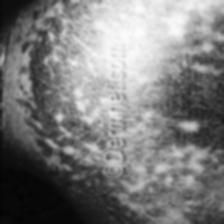Unclassified: (36, 89, 72, 117), (180, 110, 208, 136)
